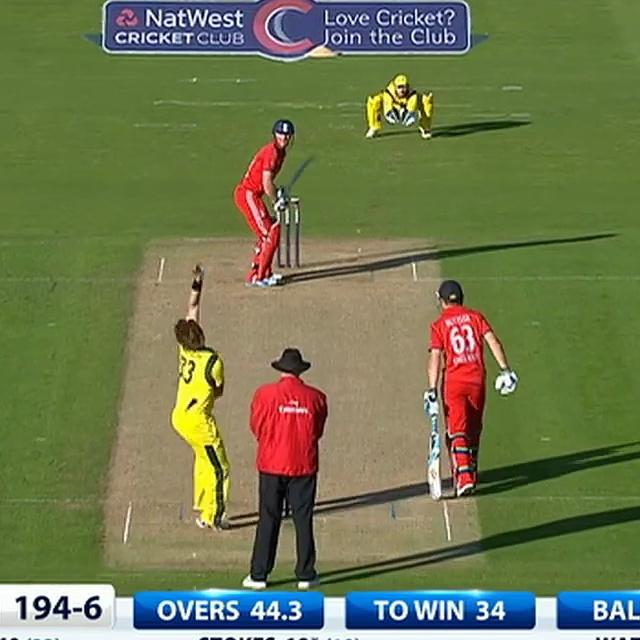umpire: (236, 340, 339, 590)
